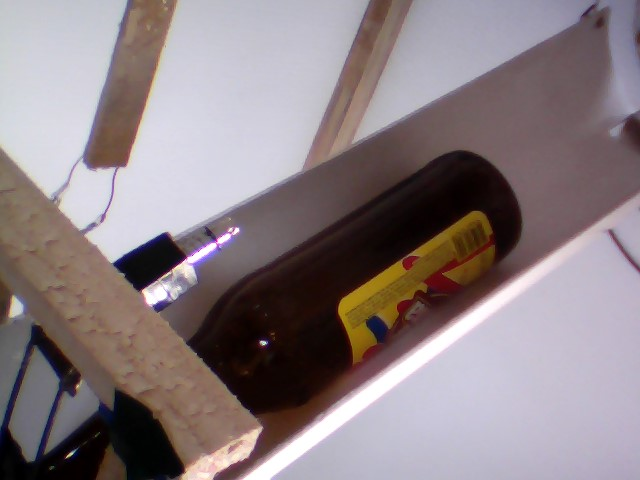vidrio: (159, 149, 529, 418)
